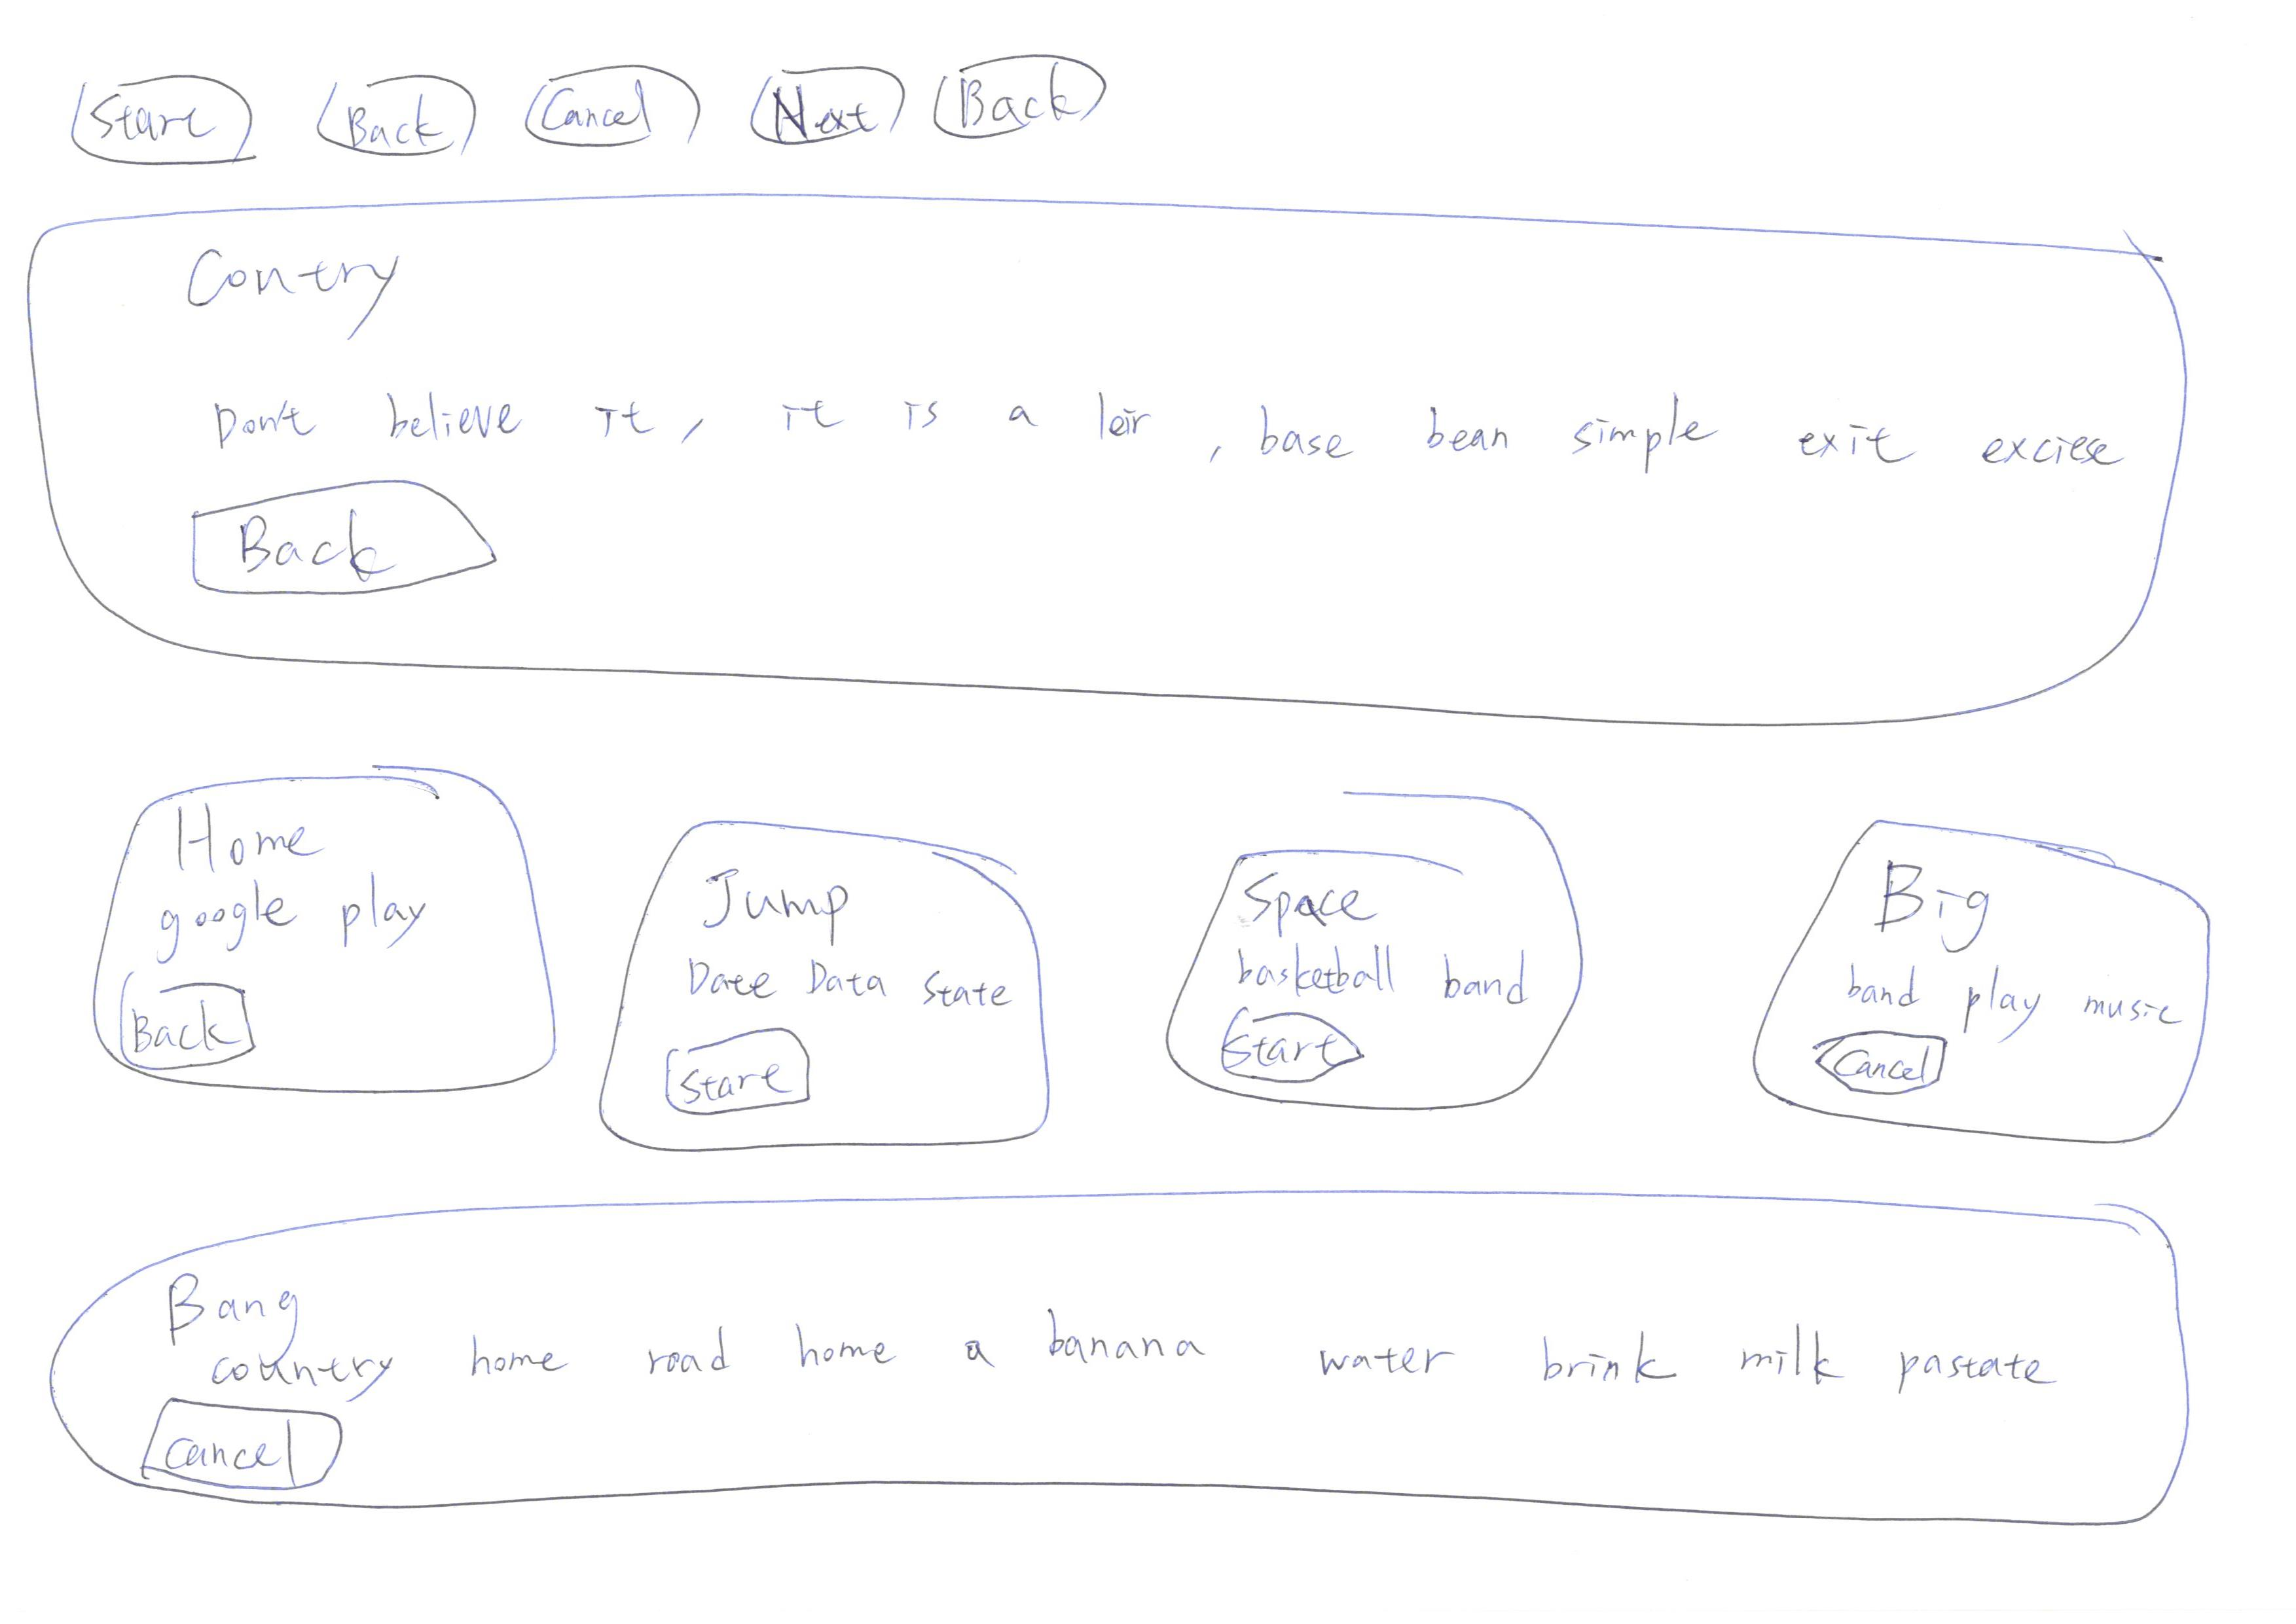back: (169, 469, 526, 613), (297, 56, 501, 190), (921, 40, 1130, 169), (105, 968, 285, 1093)
cancel: (519, 51, 735, 188), (135, 1394, 371, 1506), (1802, 1014, 1964, 1107)
quadruple: (1733, 794, 2296, 1185), (35, 756, 566, 1146), (594, 784, 1079, 1181), (1160, 789, 1621, 1144)
row: (21, 213, 2296, 750), (21, 1179, 2296, 1624), (21, 738, 2296, 1181), (21, 0, 2296, 211)
single: (21, 197, 2224, 742), (37, 1164, 2256, 1561)
small-title: (174, 230, 485, 352), (149, 1265, 331, 1360), (700, 852, 905, 928), (1867, 859, 2006, 963), (1224, 872, 1428, 940), (169, 798, 329, 877)
start: (62, 60, 280, 188), (647, 1011, 847, 1137), (1202, 993, 1377, 1093)
text: (179, 383, 2124, 497), (176, 1325, 2062, 1403), (144, 884, 445, 965), (663, 949, 1016, 1018), (1851, 967, 2182, 1026), (1222, 946, 1537, 1004)
